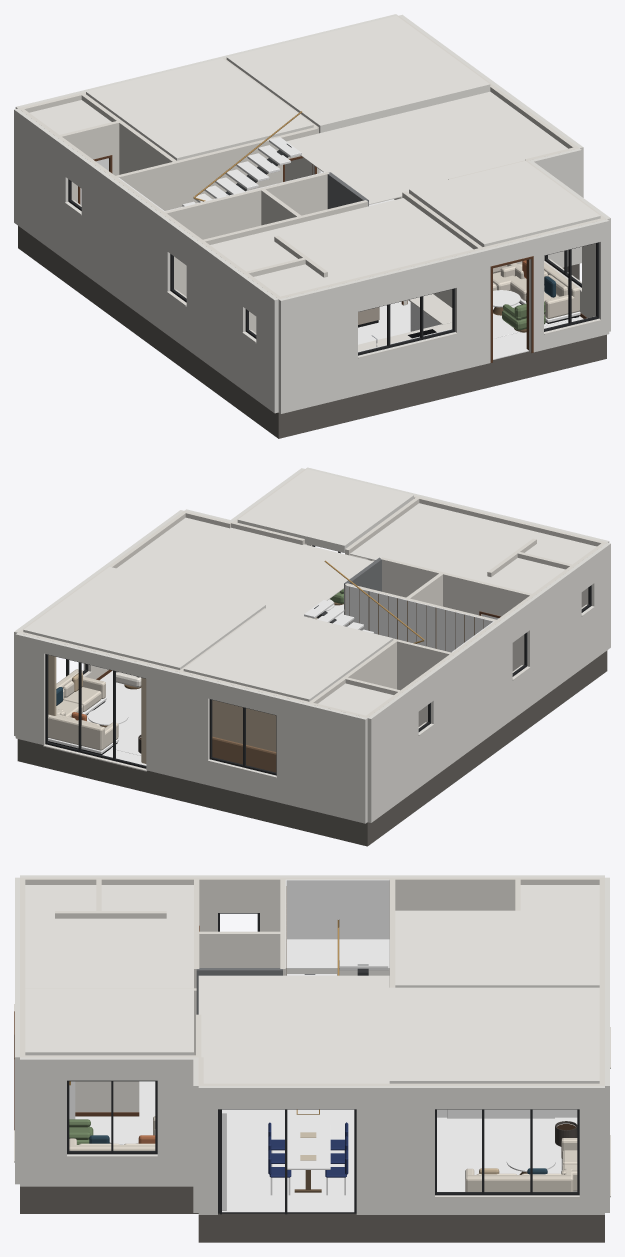
The picture shows the model from 3 angles, top to bottom: view 1: azimuth 30°, elevation 25°; view 2: azimuth 150°, elevation 25°; view 3: azimuth 270°, elevation 25°; orthographic projection. The views are drawn at different scales.
Parts seen in each view (by area): view 1: bake_gf; view 2: bake_gf; view 3: bake_gf.
Boxes of the visible parts, <box> form: bake_gf: <box>14,14,610,438</box>; bake_gf: <box>14,467,610,846</box>; bake_gf: <box>14,875,610,1242</box>.
Bounding box in the file's own units: 11.25 × 5.07 × 13.29.
